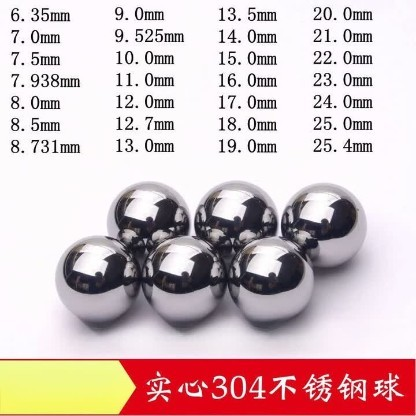ironball: (140, 233, 227, 327), (226, 235, 314, 325), (54, 234, 140, 325), (280, 181, 366, 268), (193, 179, 278, 258), (106, 180, 190, 256)
